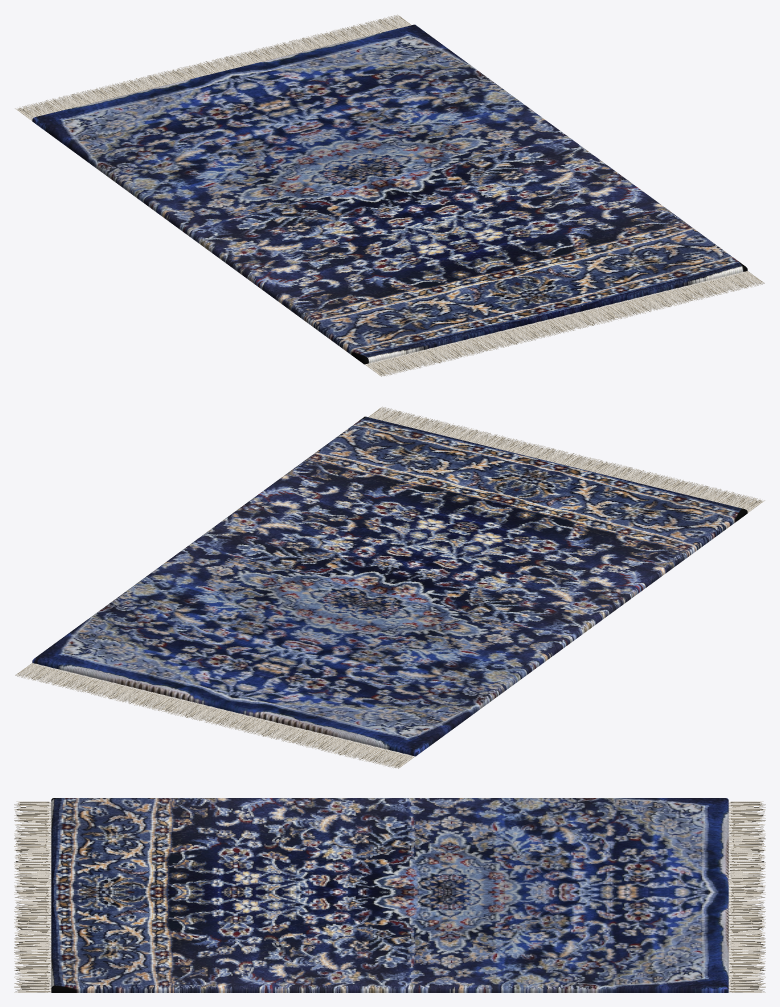
The picture shows the model from 3 angles, top to bottom: view 1: azimuth 30°, elevation 25°; view 2: azimuth 150°, elevation 25°; view 3: azimuth 270°, elevation 25°; orthographic projection. The views are drawn at different scales.
Parts seen in each view (by area): view 1: k11; view 2: k11; view 3: k11.
Part boxes in pixels (x1,y1,x2,y2): k11: [15, 14, 764, 376]; k11: [15, 406, 764, 768]; k11: [14, 798, 765, 992].
Size of the model in its own units: 0.8 by 0.0105 by 1.33.
3 materials, 2 textured.
